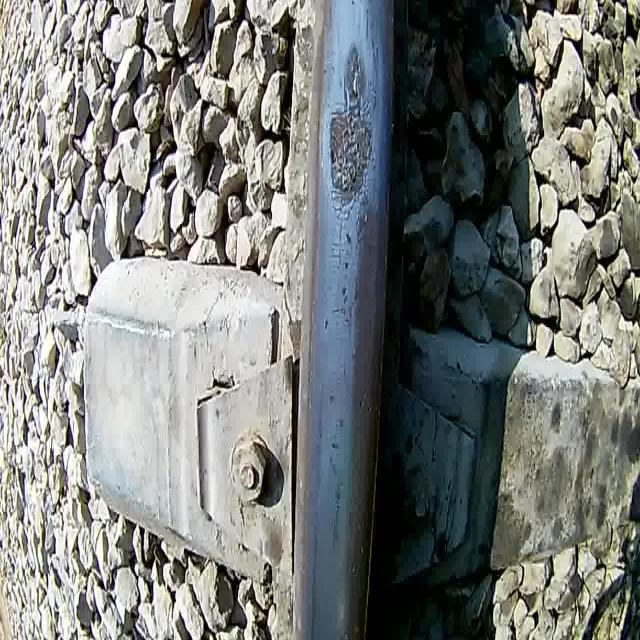Cracks: (329, 192, 368, 263), (341, 46, 362, 115), (363, 9, 383, 76)
Spallings: (328, 108, 376, 197)
Squats: (321, 34, 379, 222)
